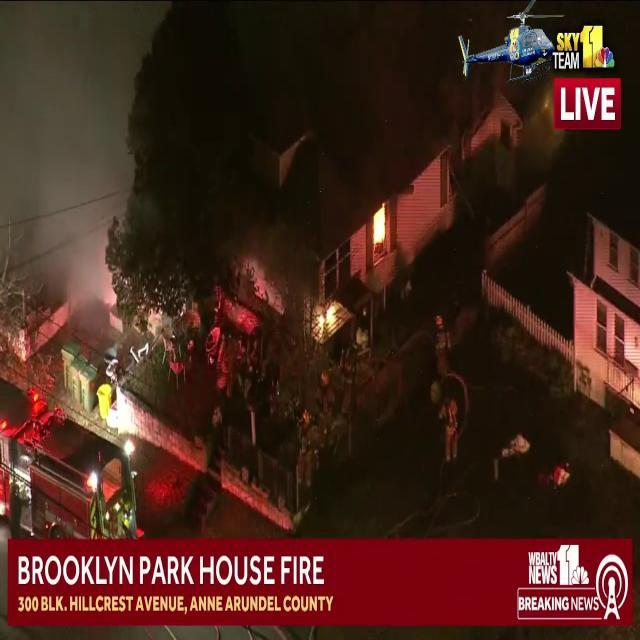Fire: (312, 291, 342, 342), (370, 204, 390, 254)
Smoke: (0, 0, 133, 344)
